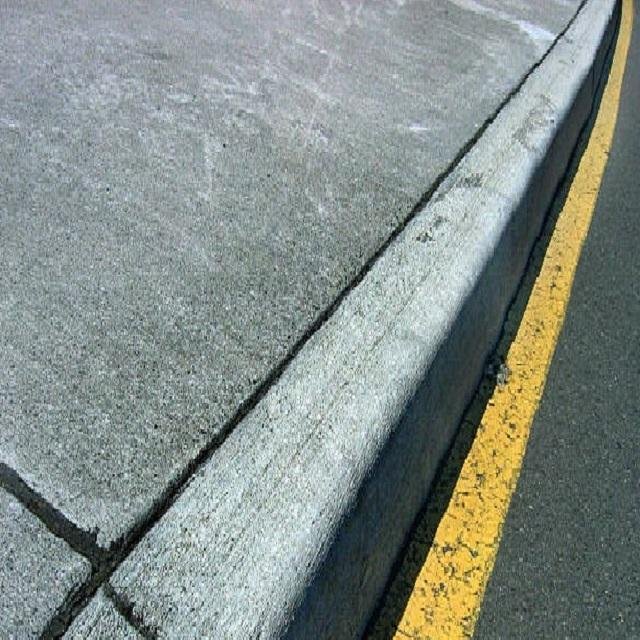bump: (156, 119, 521, 640), (404, 0, 588, 385)
